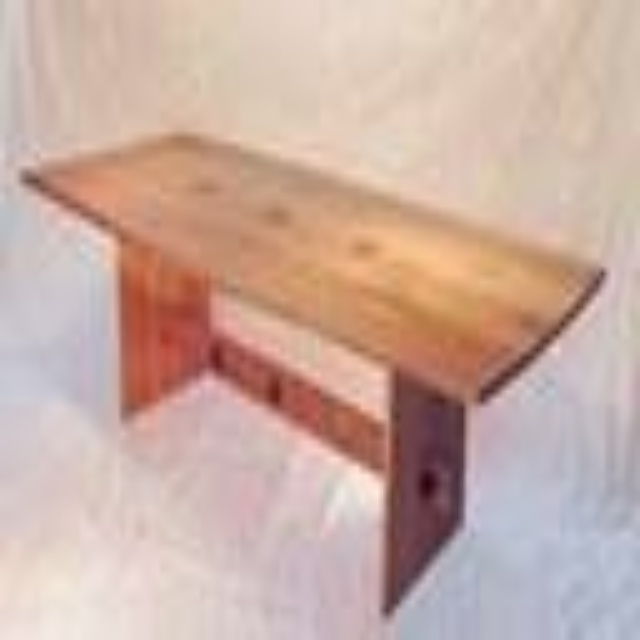obstacle: (25, 135, 600, 598)
